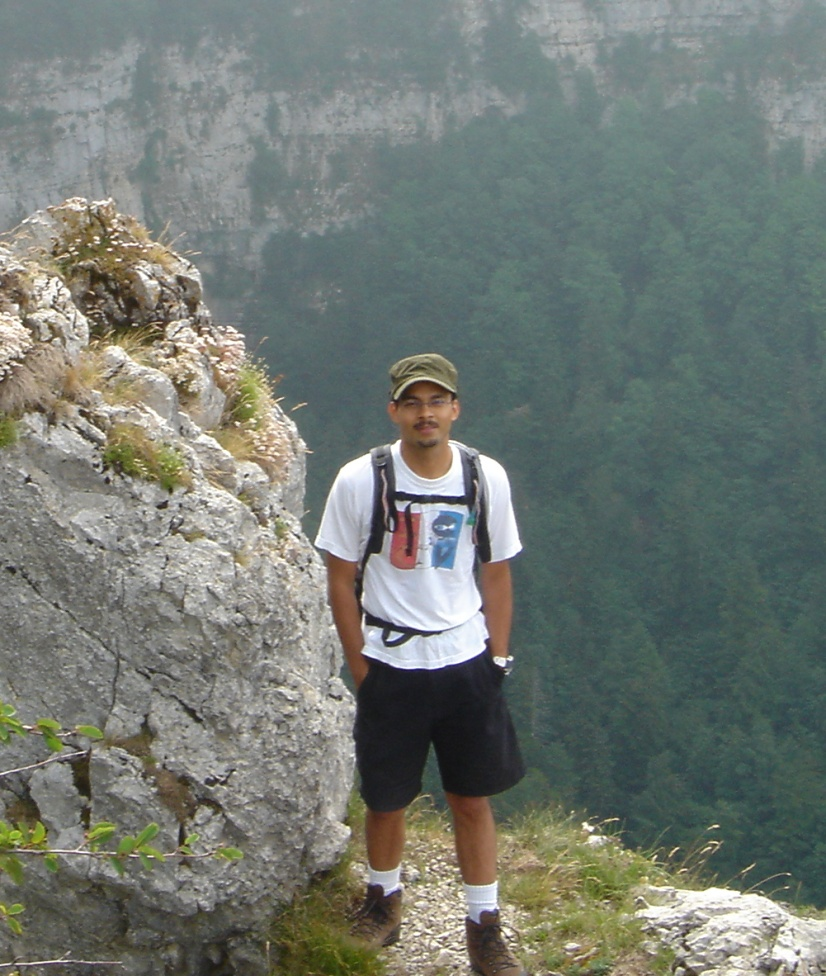person: (316, 359, 531, 968)
